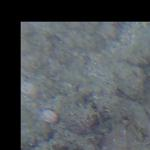dead: (21, 22, 147, 147)
